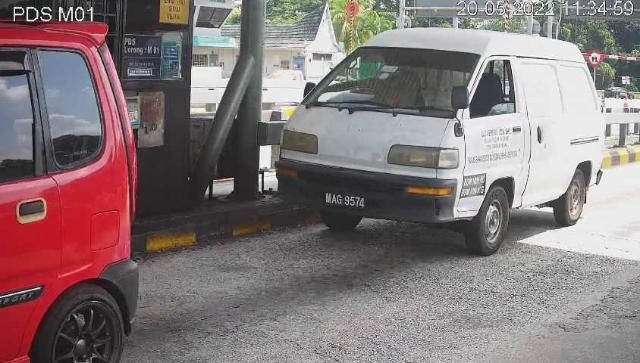License_Plate: (321, 190, 371, 216)
van: (279, 30, 608, 256)
